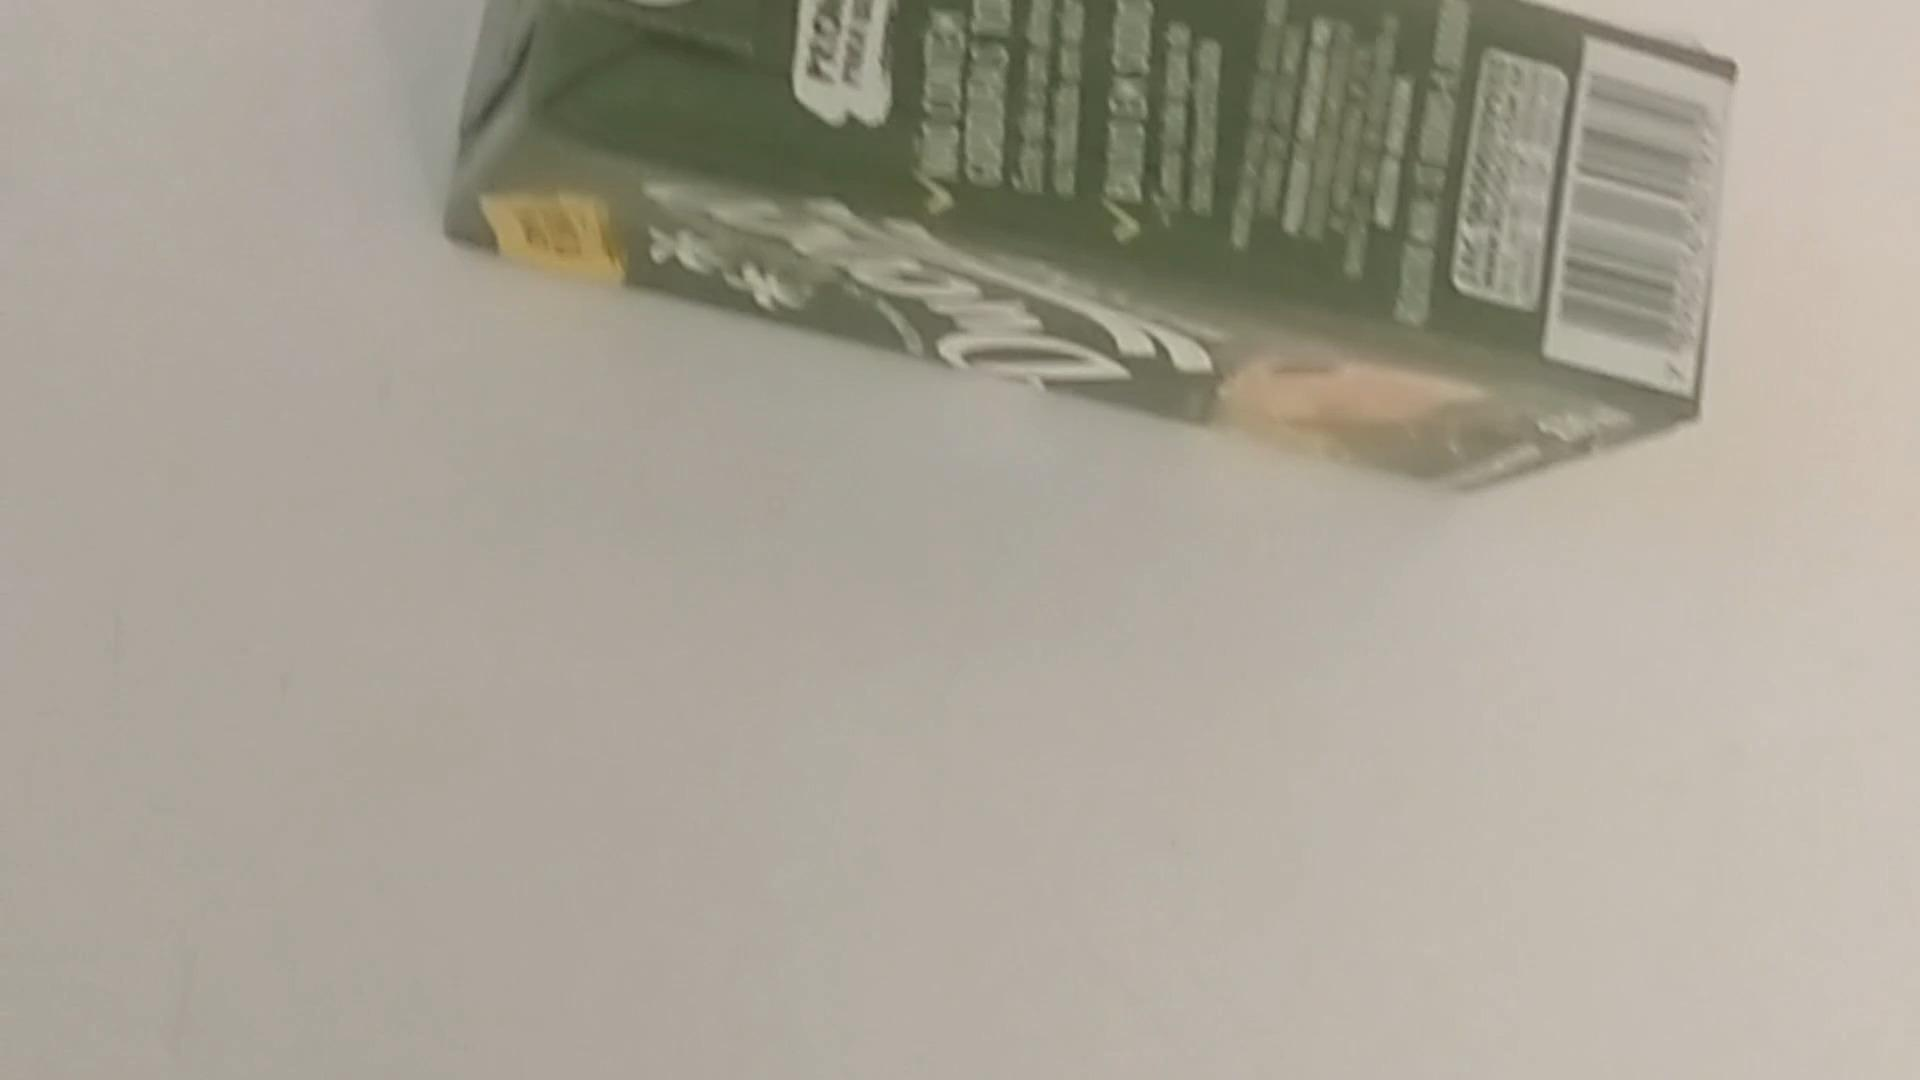coco: (444, 0, 1741, 492)
